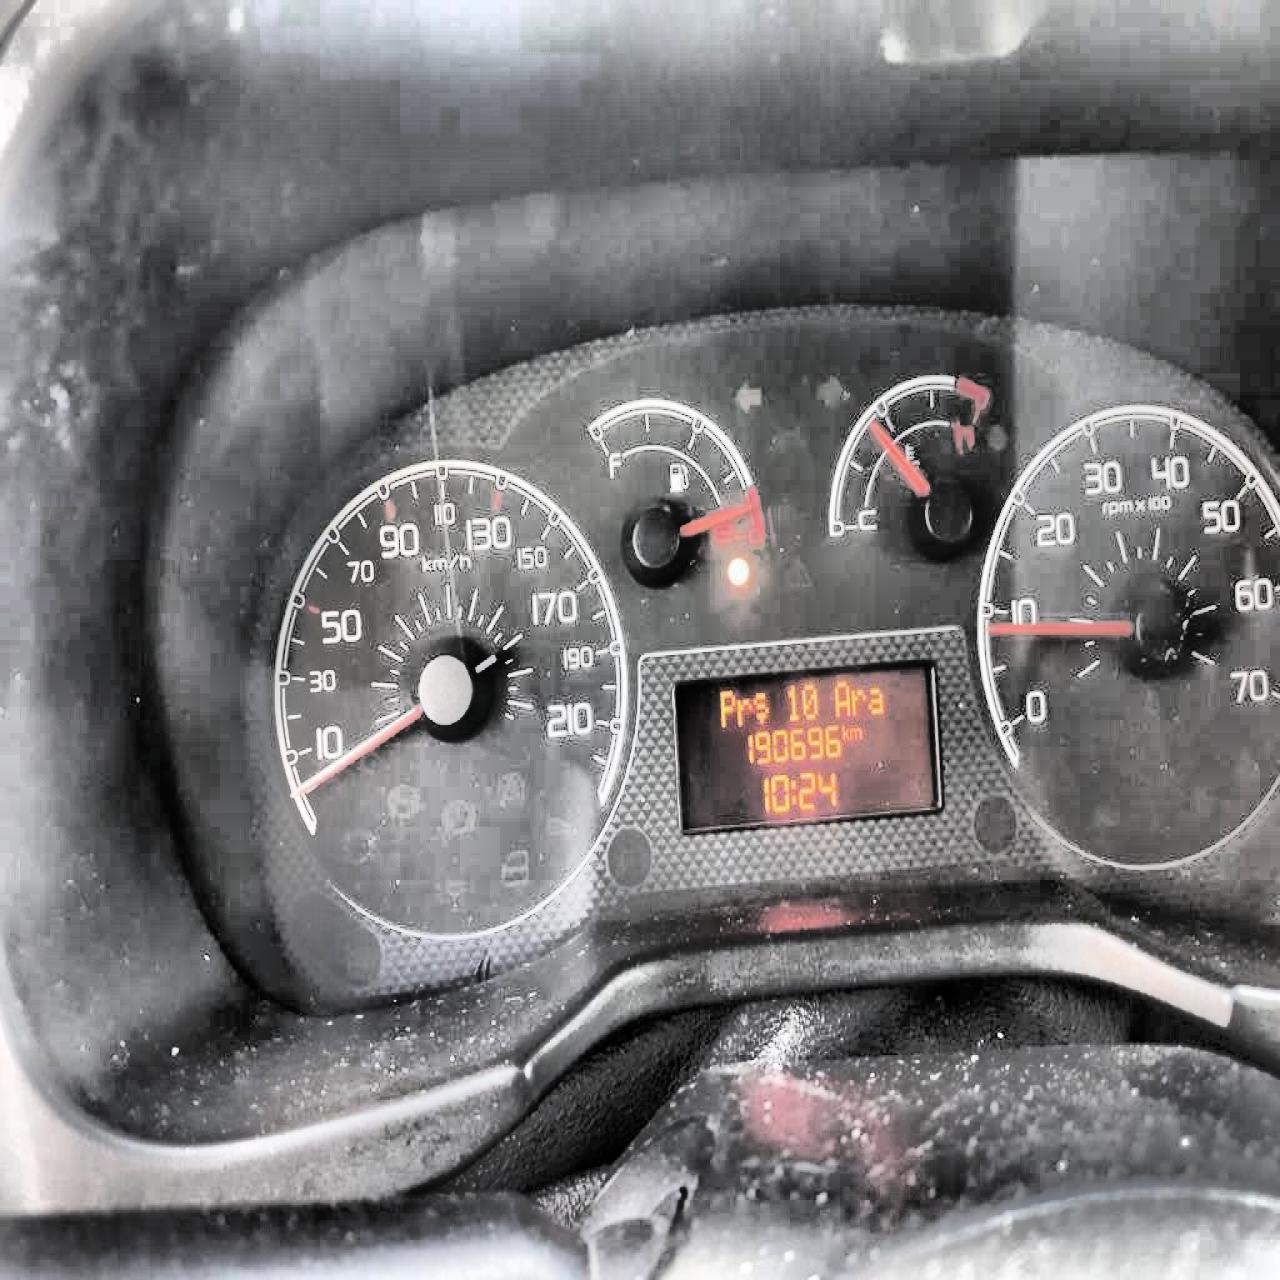0: (770, 771, 789, 811), (801, 682, 818, 720), (771, 727, 788, 762)
1: (783, 681, 798, 722), (760, 775, 769, 812), (743, 730, 753, 763)
2: (796, 770, 815, 809)
4: (816, 770, 836, 806)
6: (824, 723, 840, 757), (789, 727, 805, 761)
9: (805, 724, 823, 758), (754, 730, 770, 763)
X: (831, 676, 850, 716), (717, 687, 735, 727), (751, 689, 769, 723), (866, 683, 884, 715), (735, 695, 751, 727), (850, 687, 865, 716), (840, 720, 849, 742), (849, 726, 862, 740), (790, 778, 796, 805)
odometer: (672, 654, 944, 833)
